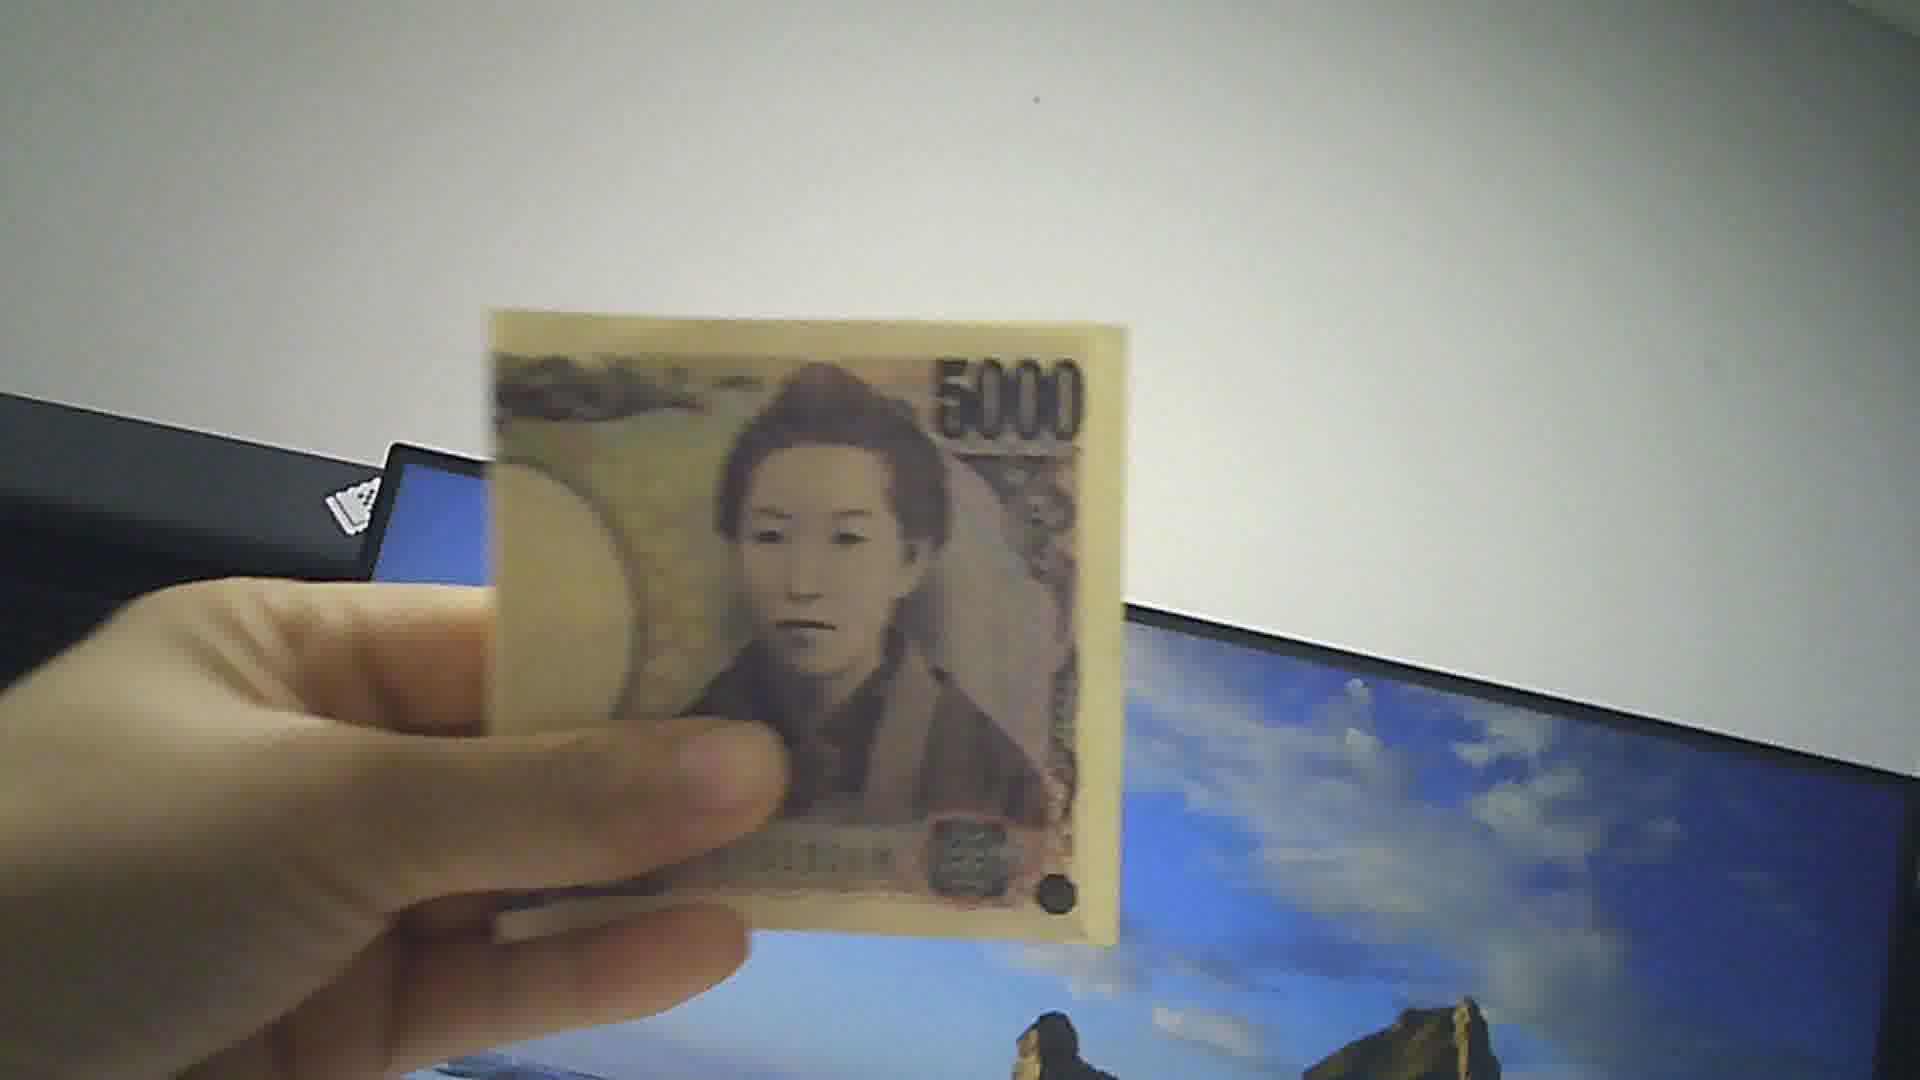5,000 Yen: (468, 306, 1127, 947)
